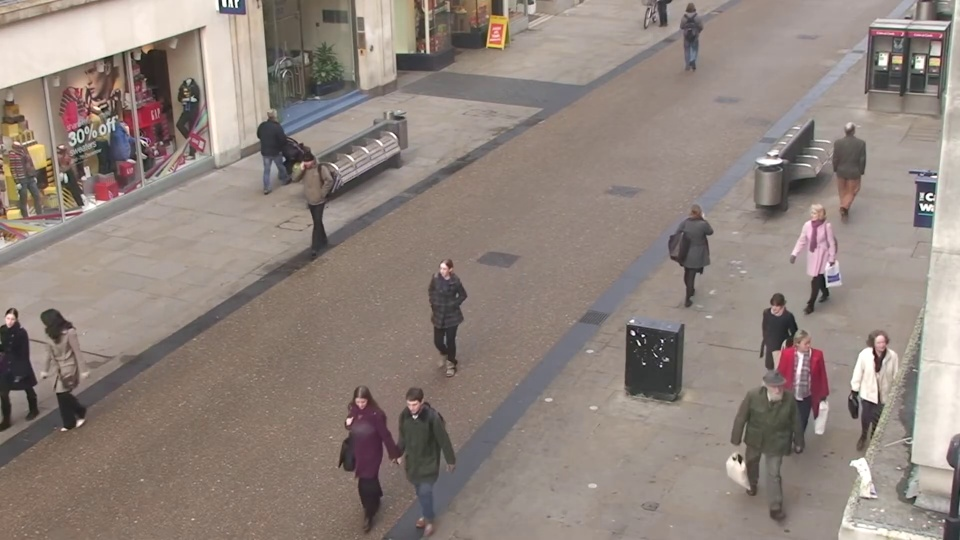pedestrian: (13, 309, 81, 454), (751, 378, 811, 540), (843, 330, 903, 485), (330, 387, 390, 540), (768, 330, 824, 483), (383, 394, 441, 540), (743, 296, 794, 440), (417, 259, 462, 393), (786, 201, 830, 320), (676, 195, 716, 313), (286, 153, 325, 257), (832, 115, 872, 212), (263, 101, 297, 191)
